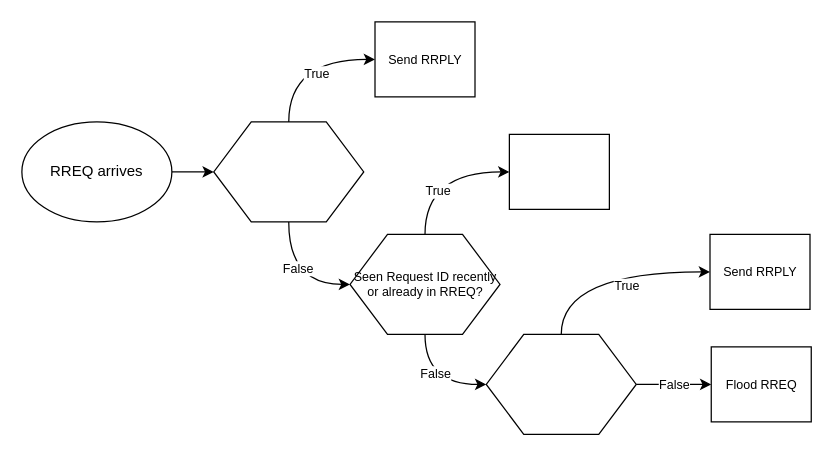
The diagram is 834 pixels wide and 456 high, and some of its shapes have lost their labels. Here are the shapes that lost their labels. From the top down, the centre of each, then its label:
At [288,171]: "For me?".
At [558,171]: "Discard.".
At [560,383]: "Have path cached?".
